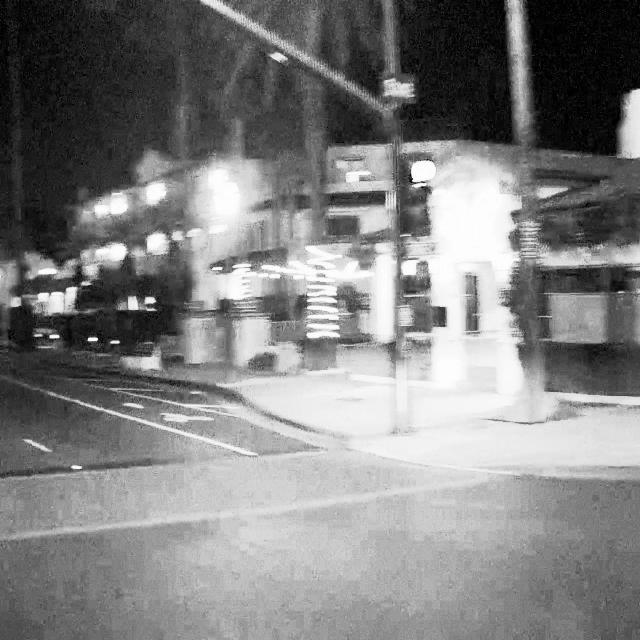Light: (406, 153, 434, 235)
